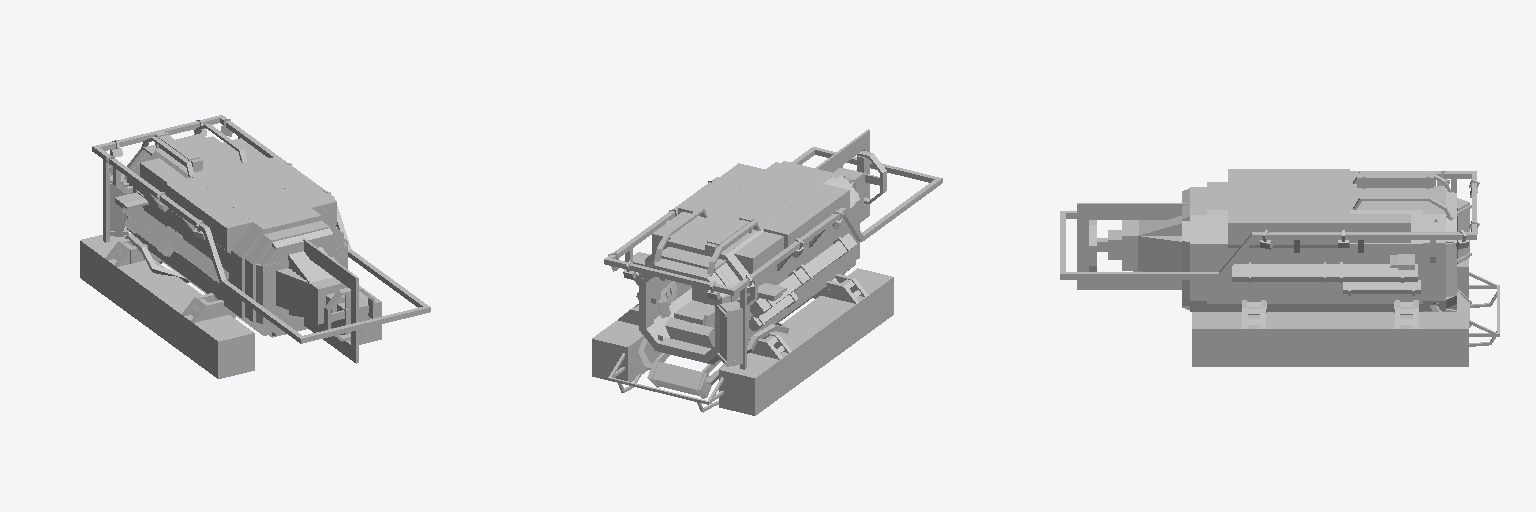
File: submarine.obj
3 renders of one model, left to right at view 1: azimuth 30°, elevation 25°; view 2: azimuth 150°, elevation 25°; view 3: azimuth 270°, elevation 25°, orthographic.
Visible parts, largest first — view 1: model_0; view 2: model_0; view 3: model_0.
Part boxes in pixels (left/top/right/bottom): model_0: left=80, top=115, right=430, bottom=378; model_0: left=592, top=129, right=942, bottom=415; model_0: left=1060, top=169, right=1499, bottom=366.
Bounding box in the file's own units: 4.25 × 3.6 × 9.89.